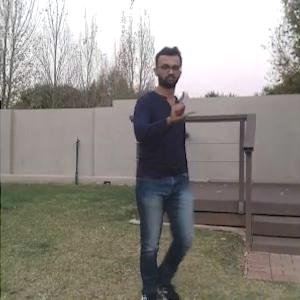land_hand: (165, 86, 197, 124)
